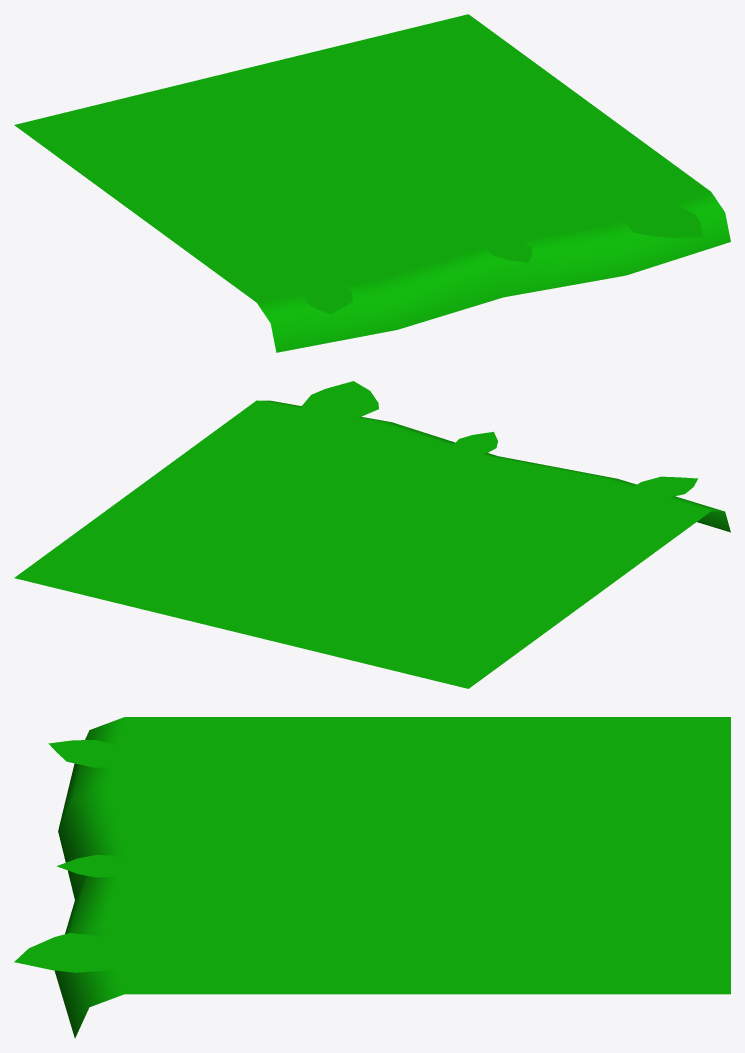
3 views of the same model, one above another, from view 1: azimuth 30°, elevation 25°; view 2: azimuth 150°, elevation 25°; view 3: azimuth 270°, elevation 25° (orthographic). The views are drawn at different scales.
Visible parts, largest first — view 1: Plane.002; view 2: Plane.002; view 3: Plane.002.
Boxes of the visible parts, left/top/right/bottom form: Plane.002: left=14, top=14, right=730, bottom=352; Plane.002: left=14, top=381, right=730, bottom=688; Plane.002: left=14, top=717, right=730, bottom=1038.
Bounding box in the file's own units: 2 × 0.15 × 2.19.
